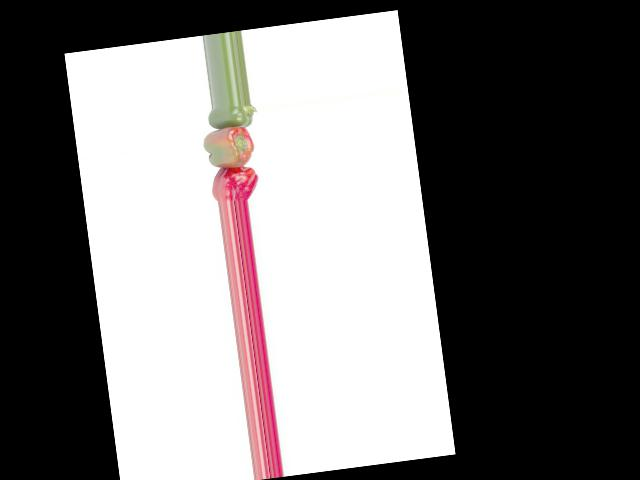bell_pepper: (206, 162, 264, 204)
